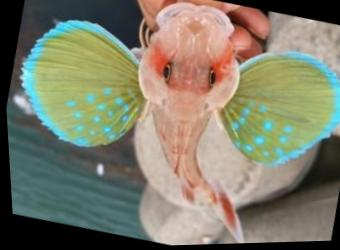fish: (19, 2, 340, 245)
